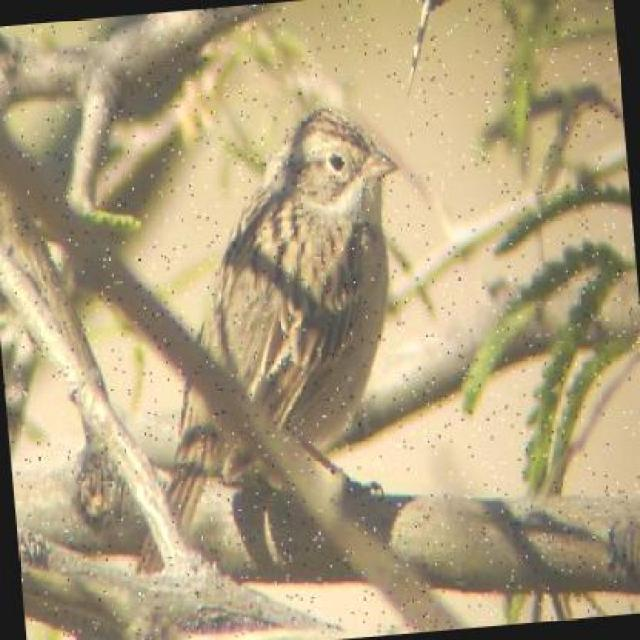Bird: (131, 110, 414, 558)
